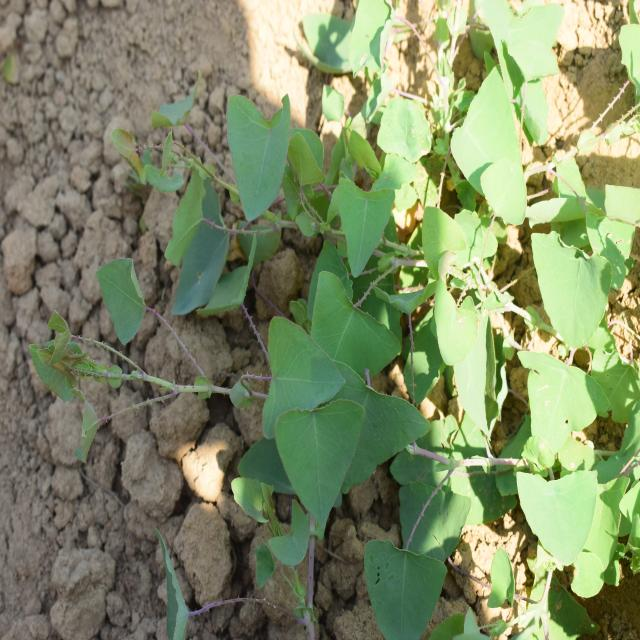Asiatic_Smartweed: (251, 251, 439, 628), (139, 77, 328, 293), (326, 93, 475, 276), (518, 209, 614, 365), (509, 441, 617, 562)
